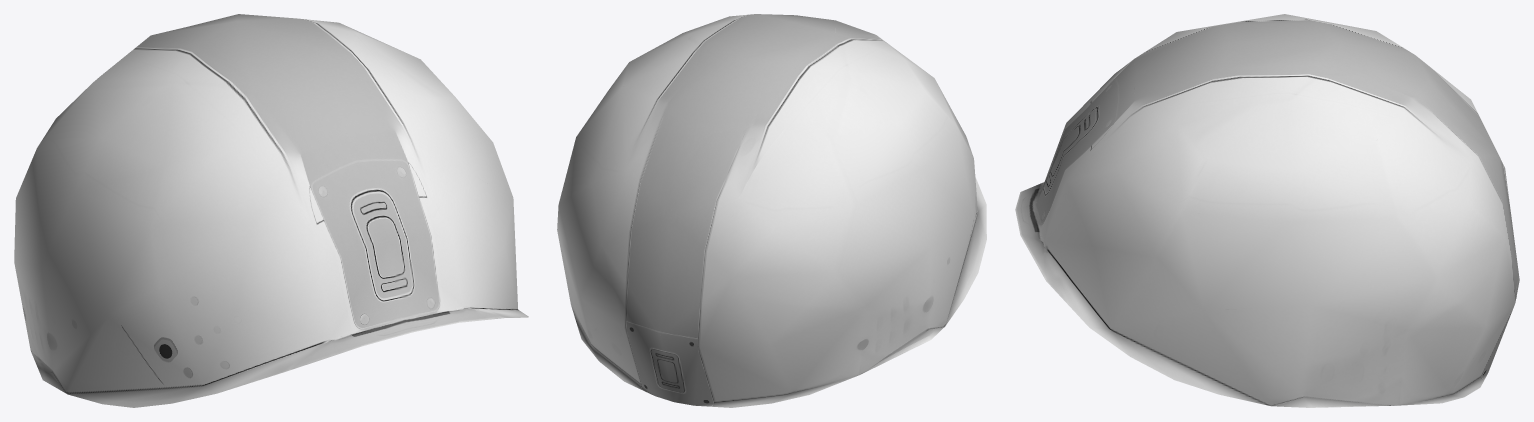
The model's file is advancedHelmet.glb.
3 renders of one model, left to right at view 1: azimuth 30°, elevation 25°; view 2: azimuth 150°, elevation 25°; view 3: azimuth 270°, elevation 25°, orthographic. The views are drawn at different scales.
Visible parts, largest first — view 1: AdvancedHelmet; view 2: AdvancedHelmet; view 3: AdvancedHelmet.
Part boxes in pixels (bbox=[...]): AdvancedHelmet: bbox=[14, 14, 528, 407]; AdvancedHelmet: bbox=[557, 14, 986, 407]; AdvancedHelmet: bbox=[1015, 14, 1519, 407].
Bounding box in the file's own units: 9.34 × 7.44 × 10.61.
1 material, 1 textured.
